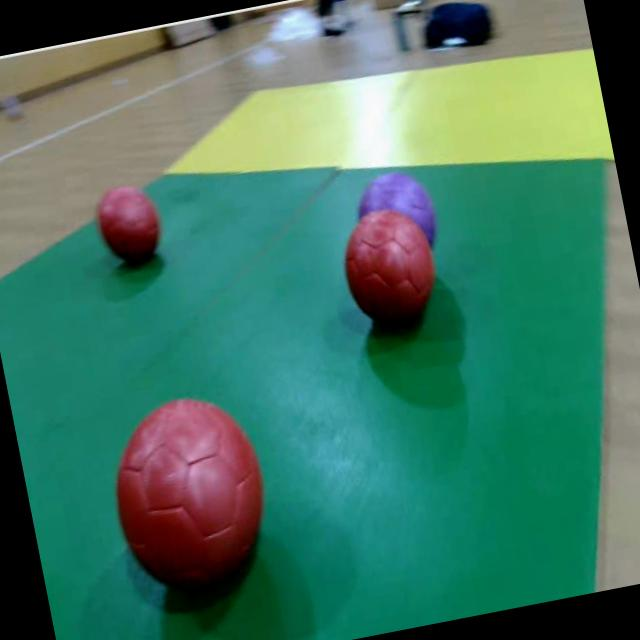purple_ball: (349, 162, 434, 218)
red_ball: (95, 384, 284, 612), (332, 212, 442, 344), (90, 176, 170, 276)
